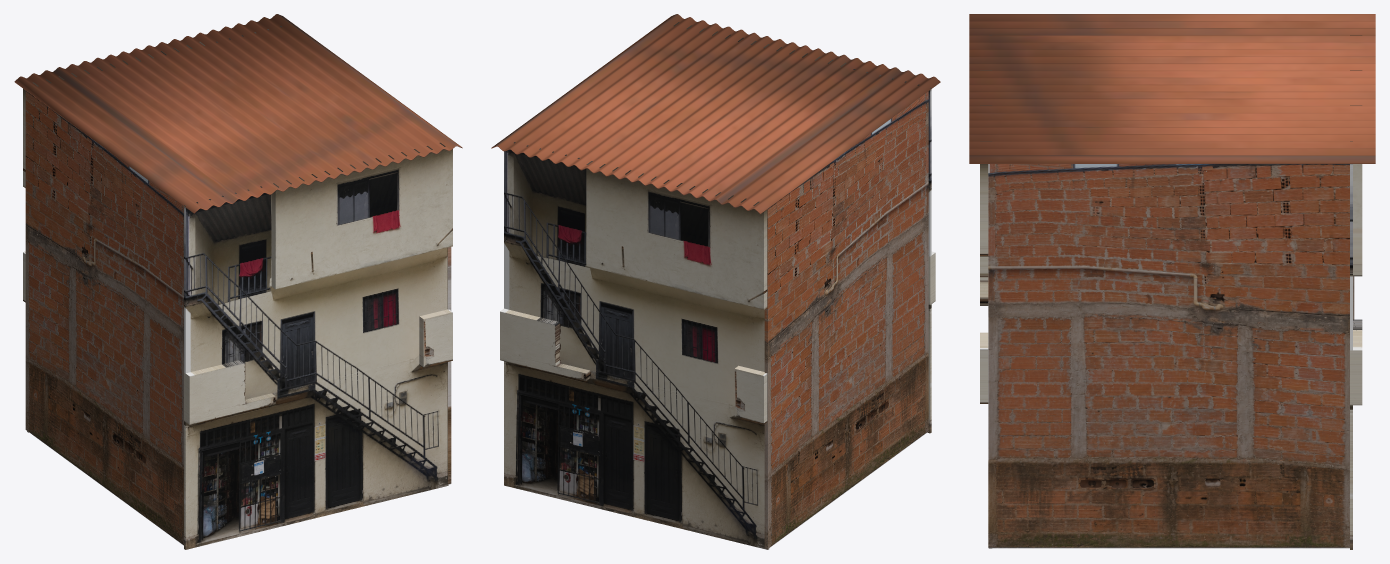
The model's file is casa_izquierda_05.fbx.
The picture shows the model from 3 angles, left to right: view 1: azimuth 30°, elevation 25°; view 2: azimuth 150°, elevation 25°; view 3: azimuth 270°, elevation 25°; orthographic projection. The views are drawn at different scales.
Visible parts, largest first — view 1: casa_izquierda_05.001, casa_izquierda_05A, Techo_05.002, casa_izquierda_05A.001, casa_izquierda_05; view 2: casa_izquierda_05, casa_izquierda_05A, Techo_05.002, casa_izquierda_05.001; view 3: casa_izquierda_05A.001, Techo_05.002, casa_izquierda_05, casa_izquierda_05.001.
Boxes of the visible parts, bbox=[...] form: casa_izquierda_05.001: bbox=[184, 142, 452, 549]; casa_izquierda_05A: bbox=[25, 91, 183, 545]; Techo_05.002: bbox=[14, 14, 462, 213]; casa_izquierda_05A.001: bbox=[447, 247, 451, 484]; casa_izquierda_05: bbox=[23, 26, 281, 432]; casa_izquierda_05: bbox=[500, 142, 769, 549]; casa_izquierda_05A: bbox=[764, 91, 928, 548]; Techo_05.002: bbox=[491, 14, 940, 214]; casa_izquierda_05.001: bbox=[673, 22, 935, 433]; casa_izquierda_05A.001: bbox=[988, 164, 1349, 548]; Techo_05.002: bbox=[969, 14, 1375, 163]; casa_izquierda_05: bbox=[1350, 35, 1362, 549]; casa_izquierda_05.001: bbox=[980, 35, 991, 548].
Bounding box in the file's own units: 595 × 734 × 689.
